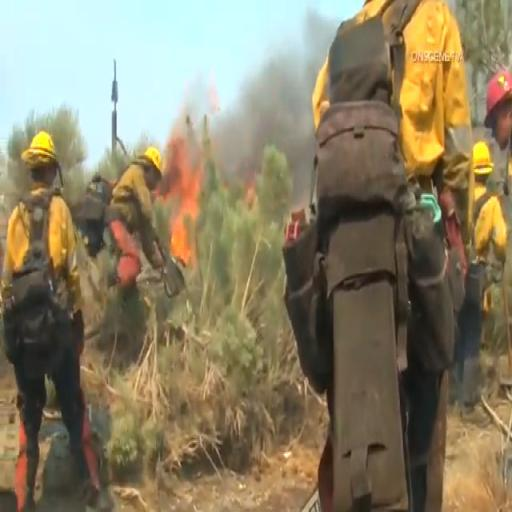fire: (170, 128, 205, 244)
smoke: (222, 23, 293, 179)
